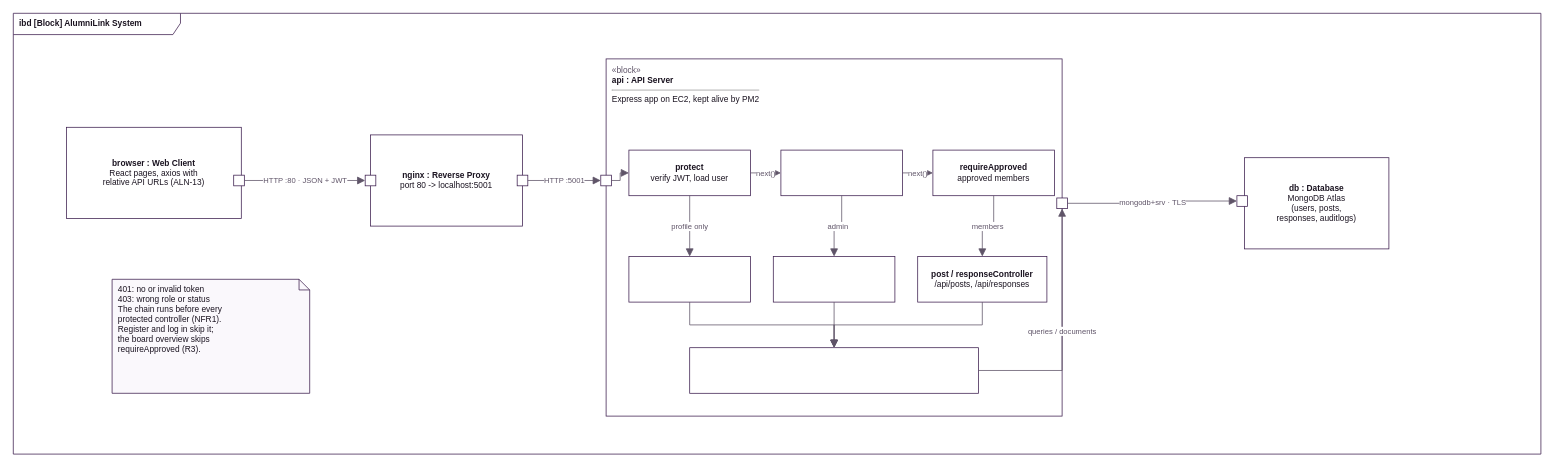
Image size: 1554x467. Some labels were removed from this diagram. The shapes that lost their labels are listed below. From the top down, each one's centre as x and y in pixels, then its label:
(x=841, y=172): requireRole member or admin
(x=689, y=279): authController /api/auth
(x=834, y=279): adminController /api/admin
(x=833, y=370): models : Mongoose User, Post, Response, AuditLog
